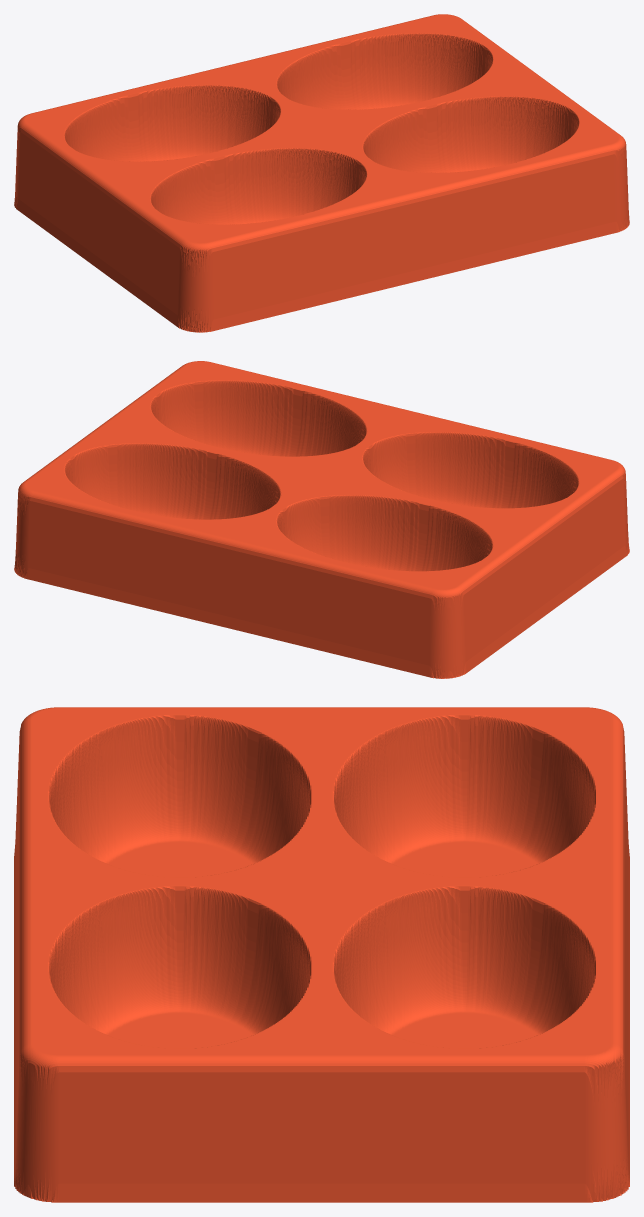
Rendered from mold.glb.
3 renders of one model, top to bottom at view 1: azimuth 30°, elevation 25°; view 2: azimuth 150°, elevation 25°; view 3: azimuth 270°, elevation 25°, orthographic. The views are drawn at different scales.
Parts seen in each view (by area): view 1: geometry_0; view 2: geometry_0; view 3: geometry_0.
Boxes of the visible parts, x1=… form: geometry_0: x1=14, y1=14, x2=629, y2=332; geometry_0: x1=14, y1=361, x2=629, y2=678; geometry_0: x1=14, y1=707, x2=629, y2=1202.
Bounding box in the file's own units: 0.1721 × 0.031 × 0.1238.
